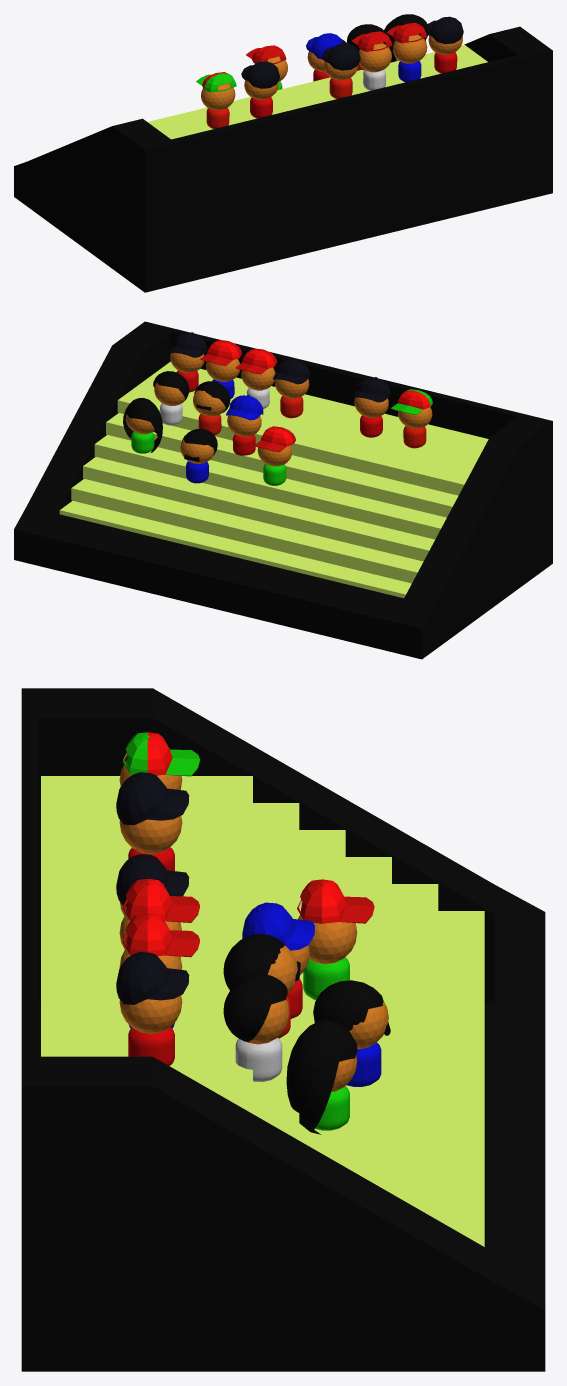
File: SeatB.obj
3 renders of one model, top to bottom at view 1: azimuth 30°, elevation 25°; view 2: azimuth 150°, elevation 25°; view 3: azimuth 270°, elevation 25°, orthographic. The views are drawn at different scales.
Parts seen in each view (by area): view 1: StadiumSits1_Cube.001, BlueAudience, BlueAudience.001, BlueAudience.004, baseball_cap.002, baseball_cap.001, baseball_cap, RedAudience.001, RedAudience, BlueAudience.002, Baseball_Cap_01_Circle.004, baseball_cap.003 (+6 smaller); view 2: StadiumSits1_Cube.001, RedAudience.002, Hairs.003, RedAudience.001, BlueAudience.008, BlueAudience.006, BlueAudience.002, BlueAudience.007, BlueAudience.004, BlueAudience.005, BlueAudience.001, BlueAudience.003 (+13 smaller); view 3: StadiumSits1_Cube.001, Hairs.003, RedAudience, BlueAudience.007, Hairs, baseball_cap.002, baseball_cap, BlueAudience.005, Baseball_Cap_01_Circle.003, Baseball_Cap_01_Circle.004, Baseball_Cap_01_Circle.002, Hairs.002 (+8 smaller).
Boxes of the visible parts, left/top/right/bottom form: StadiumSits1_Cube.001: left=14, top=26, right=552, bottom=292; BlueAudience: left=393, top=34, right=427, bottom=82; BlueAudience.001: left=359, top=43, right=391, bottom=90; BlueAudience.004: left=201, top=83, right=235, bottom=128; baseball_cap.002: left=241, top=61, right=279, bottom=88; baseball_cap.001: left=322, top=43, right=360, bottom=70; baseball_cap: left=425, top=16, right=463, bottom=44; RedAudience.001: left=244, top=80, right=278, bottom=118; RedAudience: left=428, top=35, right=462, bottom=73; BlueAudience.002: left=324, top=61, right=358, bottom=98; Baseball_Cap_01_Circle.004: left=196, top=72, right=236, bottom=92; baseball_cap.003: left=306, top=33, right=343, bottom=59; StadiumSits1_Cube.001: left=14, top=321, right=552, bottom=659; RedAudience.002: left=227, top=415, right=261, bottom=455; Hairs.003: left=123, top=398, right=162, bottom=452; RedAudience.001: left=354, top=397, right=388, bottom=437; BlueAudience.008: left=180, top=439, right=214, bottom=483; BlueAudience.006: left=193, top=390, right=225, bottom=435; BlueAudience.002: left=275, top=379, right=309, bottom=418; BlueAudience.007: left=257, top=445, right=291, bottom=485; BlueAudience.004: left=398, top=407, right=432, bottom=448; BlueAudience.005: left=154, top=382, right=185, bottom=425; BlueAudience.001: left=241, top=367, right=275, bottom=408; BlueAudience.003: left=126, top=414, right=154, bottom=453; StadiumSits1_Cube.001: left=21, top=688, right=545, bottom=1371; Hairs.003: left=286, top=1020, right=357, bottom=1134; RedAudience: left=119, top=995, right=182, bottom=1065; BlueAudience.007: left=298, top=915, right=357, bottom=1000; Hairs: left=223, top=974, right=287, bottom=1042; baseball_cap.002: left=116, top=772, right=189, bottom=825; baseball_cap: left=116, top=952, right=189, bottom=1004; BlueAudience.005: left=235, top=999, right=289, bottom=1081; Baseball_Cap_01_Circle.003: left=297, top=879, right=374, bottom=923; Baseball_Cap_01_Circle.004: left=122, top=732, right=199, bottom=776; Baseball_Cap_01_Circle.002: left=122, top=913, right=199, bottom=957; Hairs.002: left=313, top=980, right=383, bottom=1030.
Bounding box in the file's own units: 21.8 × 8.83 × 12.12.
